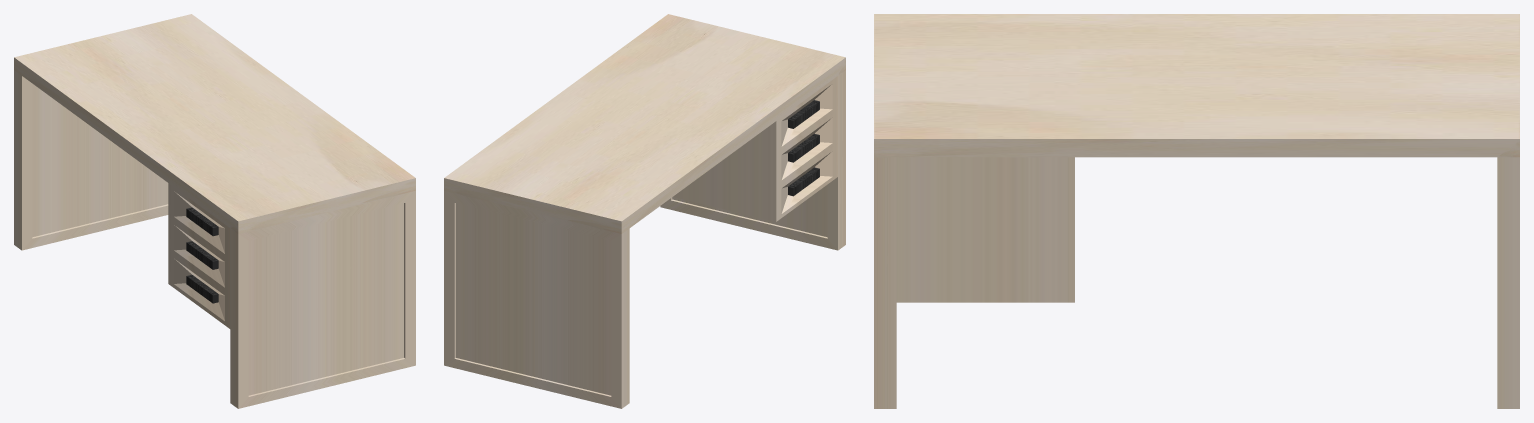
Rendered from officeTable.fbx.
3 renders of one model, left to right at view 1: azimuth 30°, elevation 25°; view 2: azimuth 150°, elevation 25°; view 3: azimuth 270°, elevation 25°, orthographic. The views are drawn at different scales.
Visible parts, largest first — view 1: Box001; view 2: Box001; view 3: Box001.
Boxes of the visible parts, bbox=[...] form: Box001: bbox=[14, 14, 415, 408]; Box001: bbox=[444, 14, 845, 408]; Box001: bbox=[874, 14, 1519, 408].
Size of the model in its own units: 52.53 by 52.97 by 115.
2 materials, 2 textured.
